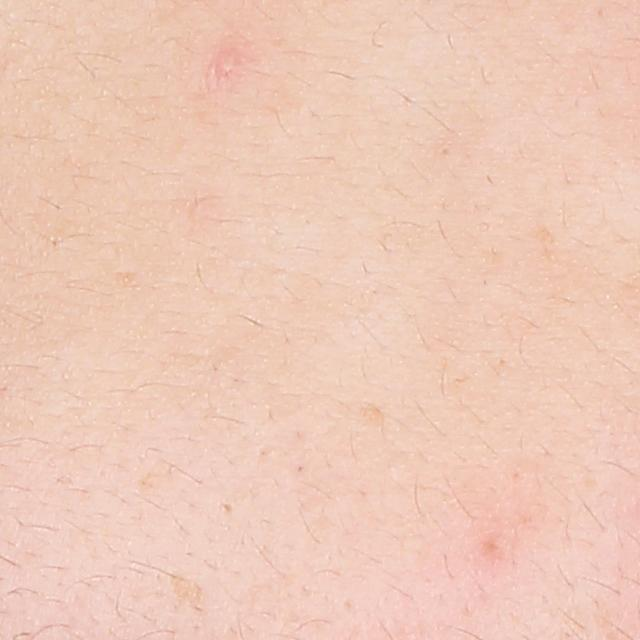papule: (204, 42, 244, 89)
